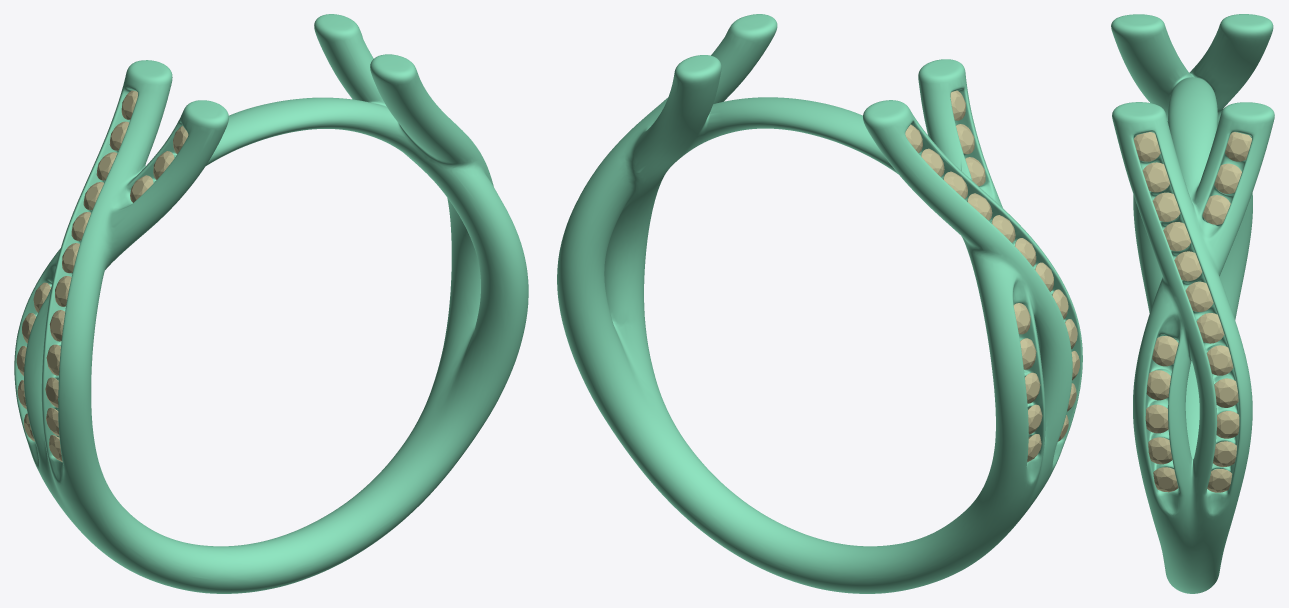
The picture shows the model from 3 angles, left to right: view 1: azimuth 30°, elevation 25°; view 2: azimuth 150°, elevation 25°; view 3: azimuth 270°, elevation 25°; orthographic projection. The views are drawn at different scales.
Parts seen in each view (by area): view 1: Metal02; view 2: Metal02; view 3: Metal02, Diamond_Gem.025, Diamond_Gem.037, Diamond_Gem.035, Diamond_Gem.024, Diamond_Gem.026, Diamond_Gem.020, Diamond_Gem.023, Diamond_Gem.036, Diamond_Gem.019, Diamond_Gem.034, Diamond_Gem.038 (+9 smaller).
Part boxes in pixels (left/top/right/bottom): Metal02: left=14, top=14, right=528, bottom=593; Metal02: left=557, top=14, right=1082, bottom=593; Metal02: left=1111, top=14, right=1274, bottom=593; Diamond_Gem.025: left=1196, top=313, right=1224, bottom=343; Diamond_Gem.037: left=1214, top=163, right=1241, bottom=193; Diamond_Gem.035: left=1152, top=336, right=1178, bottom=366; Diamond_Gem.024: left=1185, top=281, right=1213, bottom=311; Diamond_Gem.026: left=1207, top=345, right=1233, bottom=375; Diamond_Gem.020: left=1142, top=162, right=1170, bottom=192; Diamond_Gem.023: left=1174, top=251, right=1202, bottom=281; Diamond_Gem.036: left=1202, top=195, right=1230, bottom=224; Diamond_Gem.019: left=1133, top=132, right=1160, bottom=161; Diamond_Gem.034: left=1146, top=370, right=1170, bottom=400; Diamond_Gem.038: left=1225, top=132, right=1251, bottom=161.
Size of the model in its own units: 21.19 by 21.87 by 6.43.
